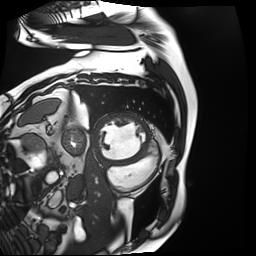ventricle: (103, 122, 148, 160)
